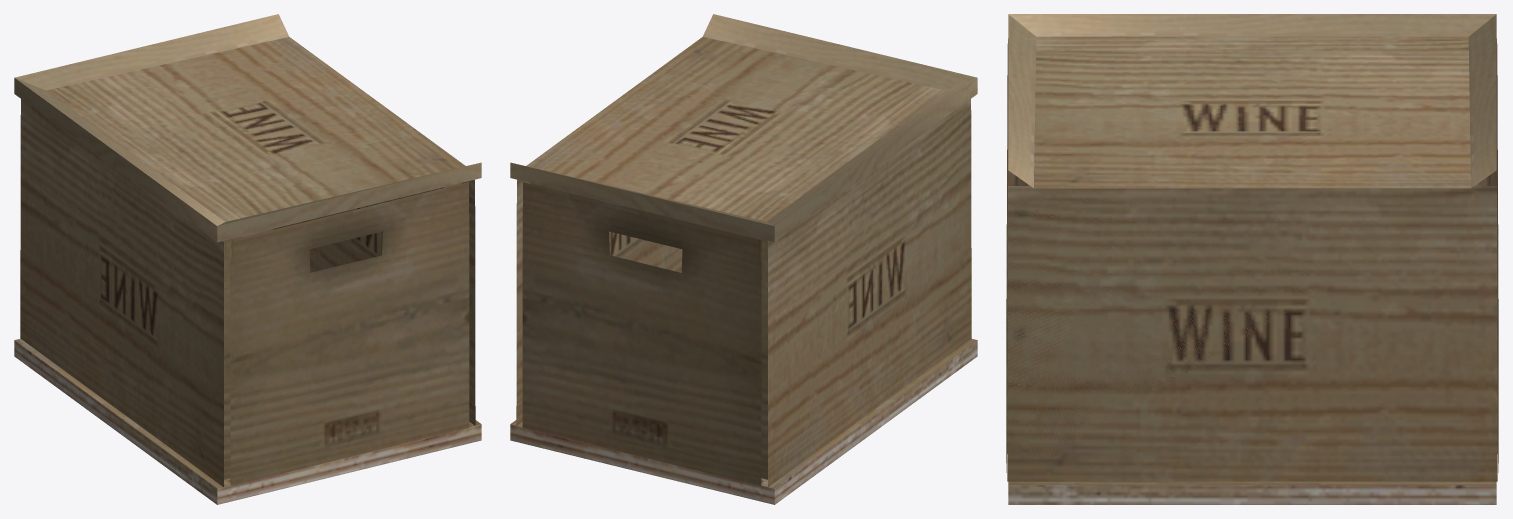
The model's file is com_wine_crate_close_lod2.glb.
3 renders of one model, left to right at view 1: azimuth 30°, elevation 25°; view 2: azimuth 150°, elevation 25°; view 3: azimuth 270°, elevation 25°, orthographic. The views are drawn at different scales.
Parts seen in each view (by area): view 1: surf0; view 2: surf0; view 3: surf0.
Boxes of the visible parts, left/top/right/bottom form: surf0: left=14, top=14, right=481, bottom=504; surf0: left=510, top=14, right=977, bottom=504; surf0: left=1006, top=14, right=1498, bottom=504.
Bounding box in the file's own units: 17.92 × 18.06 × 24.
